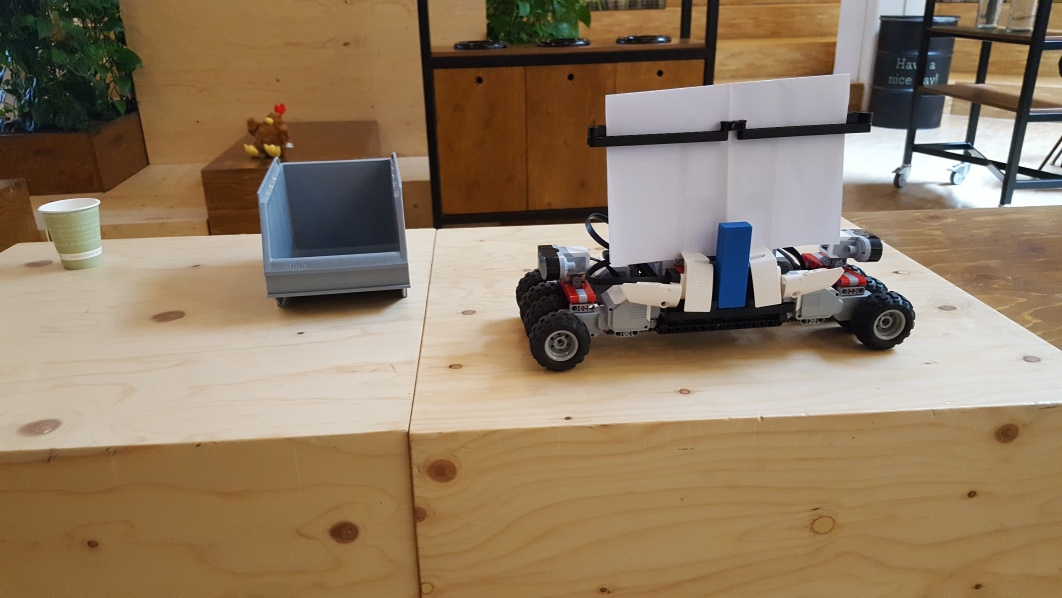car: (512, 73, 916, 374)
chicken: (245, 102, 294, 156)
cup: (35, 197, 109, 269)
tray: (257, 152, 413, 304)
